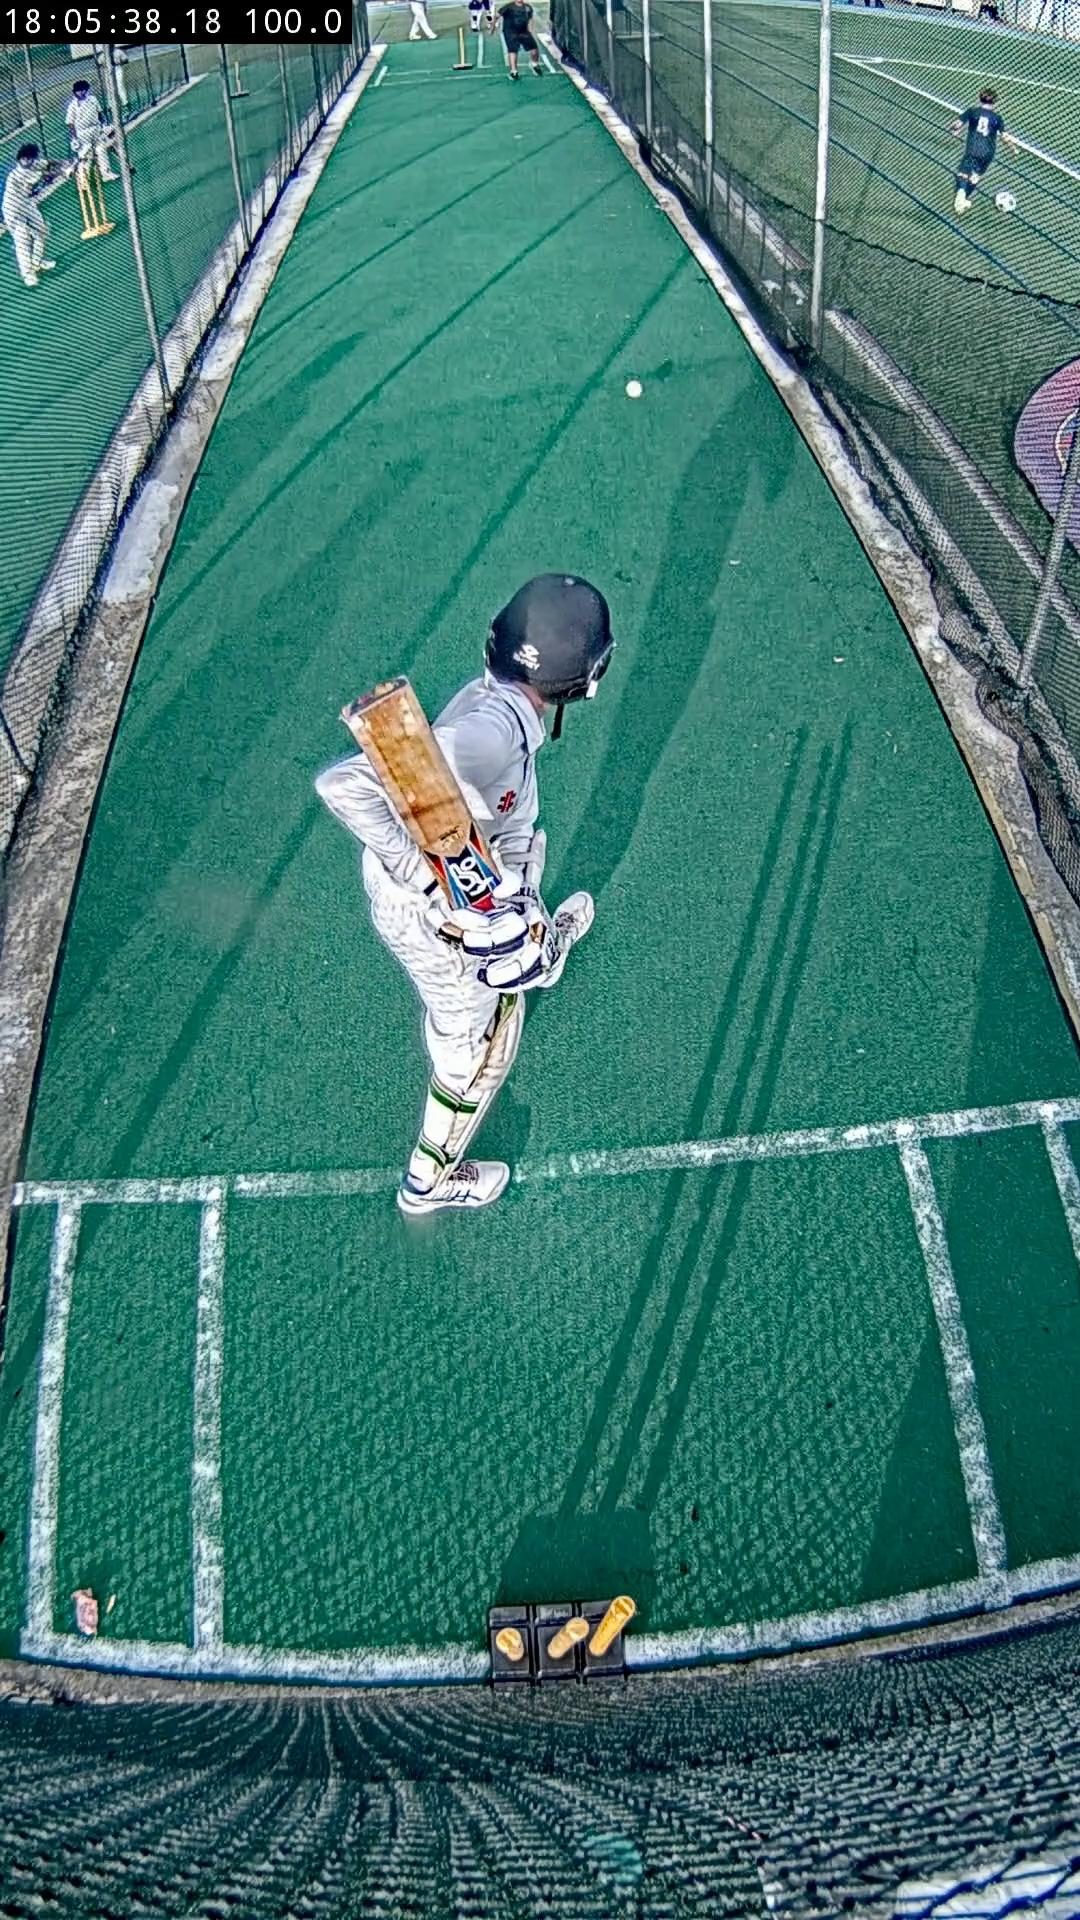ball: (626, 378, 641, 396)
bat: (342, 675, 502, 906)
gloves: (443, 893, 551, 990)
helmet: (488, 574, 615, 705)
pads: (446, 994, 525, 1155)
stumps: (488, 1594, 634, 1681)
